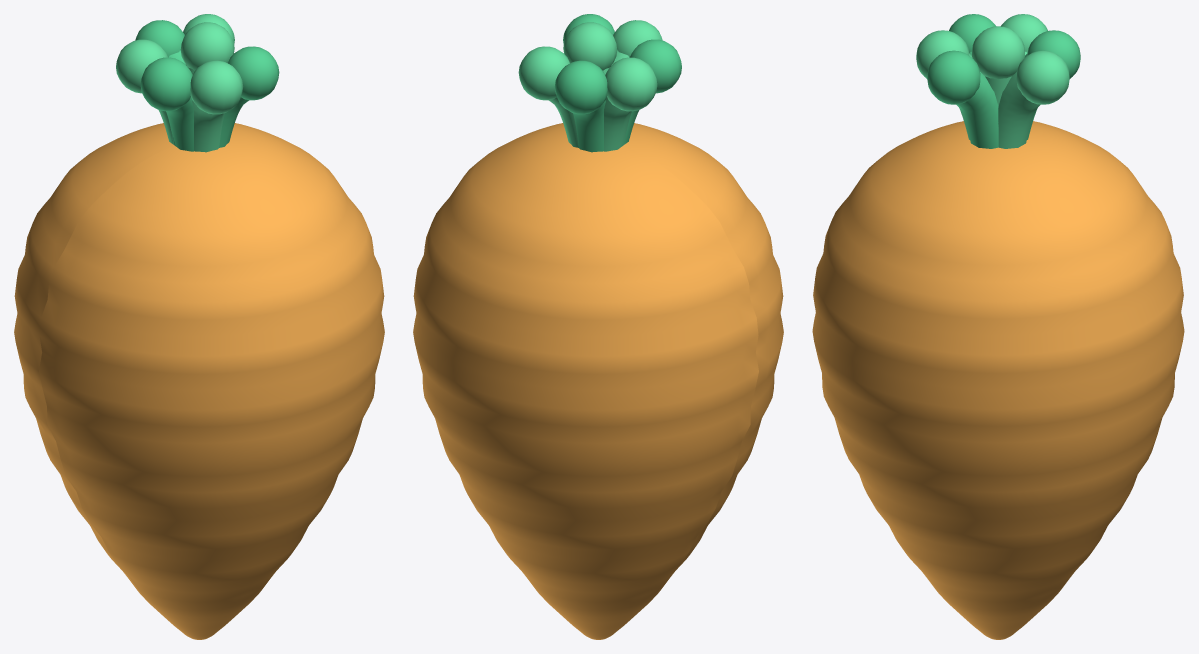
The model's file is carrot.glb.
The picture shows the model from 3 angles, left to right: view 1: azimuth 30°, elevation 25°; view 2: azimuth 150°, elevation 25°; view 3: azimuth 270°, elevation 25°; orthographic projection.
Visible parts, largest first — view 1: Carrot_Body, Chibi_Carrot; view 2: Carrot_Body, Chibi_Carrot; view 3: Carrot_Body, Chibi_Carrot.
Part boxes in pixels (<box>): Carrot_Body: <box>14,123,384,639</box>; Chibi_Carrot: <box>116,14,279,152</box>; Carrot_Body: <box>413,123,783,639</box>; Chibi_Carrot: <box>518,14,681,152</box>; Carrot_Body: <box>812,121,1184,639</box>; Chibi_Carrot: <box>916,14,1080,148</box>.
Bounding box in the file's own units: 1.51 × 2.74 × 1.51.
